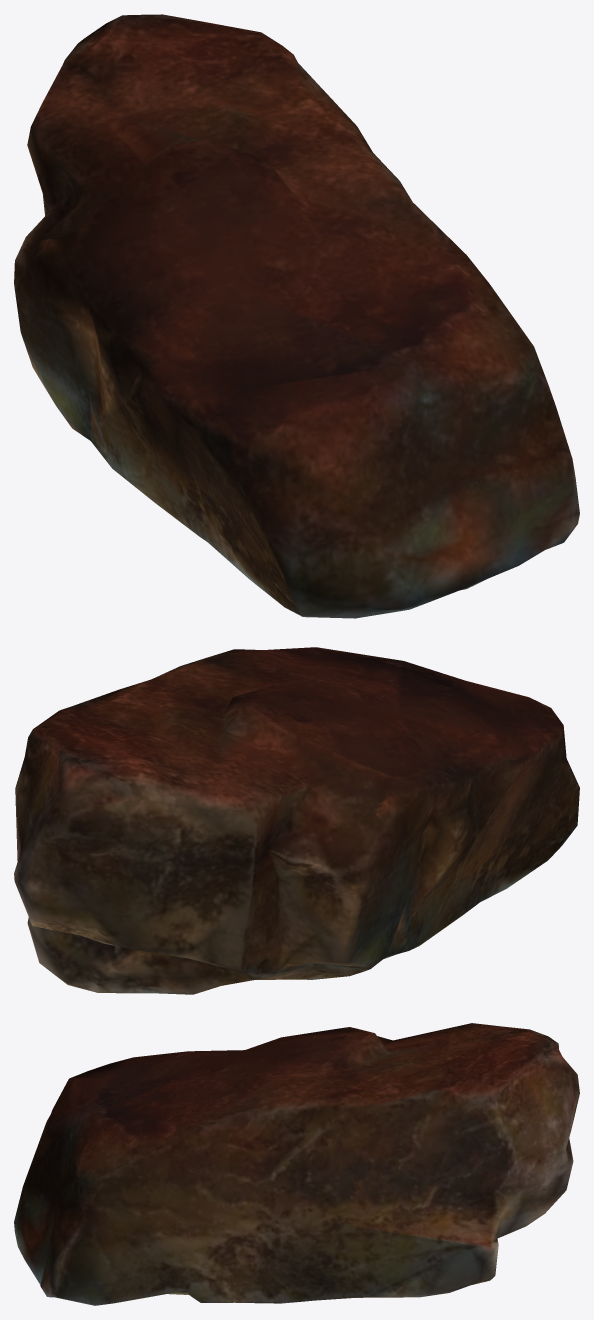
Rendered from rock.glb.
3 renders of one model, top to bottom at view 1: azimuth 30°, elevation 25°; view 2: azimuth 150°, elevation 25°; view 3: azimuth 270°, elevation 25°, orthographic. The views are drawn at different scales.
Parts seen in each view (by area): view 1: rock_07; view 2: rock_07; view 3: rock_07.
Part boxes in pixels (bbox=[...]): rock_07: bbox=[14, 14, 579, 618]; rock_07: bbox=[14, 647, 579, 994]; rock_07: bbox=[14, 1023, 579, 1305].
Bounding box in the file's own units: 1.04 × 0.8932 × 2.
1 material, 1 textured.
